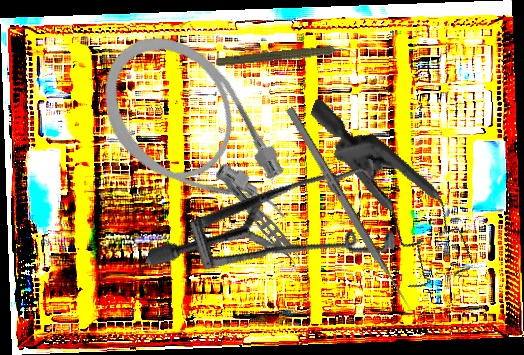Cannula: (76, 10, 318, 269)
Handpiece: (215, 40, 359, 73)
Pusher: (285, 106, 414, 313)
Speculum: (145, 99, 420, 341), (266, 98, 507, 305)
Tissue Forceps: (214, 173, 308, 273)
